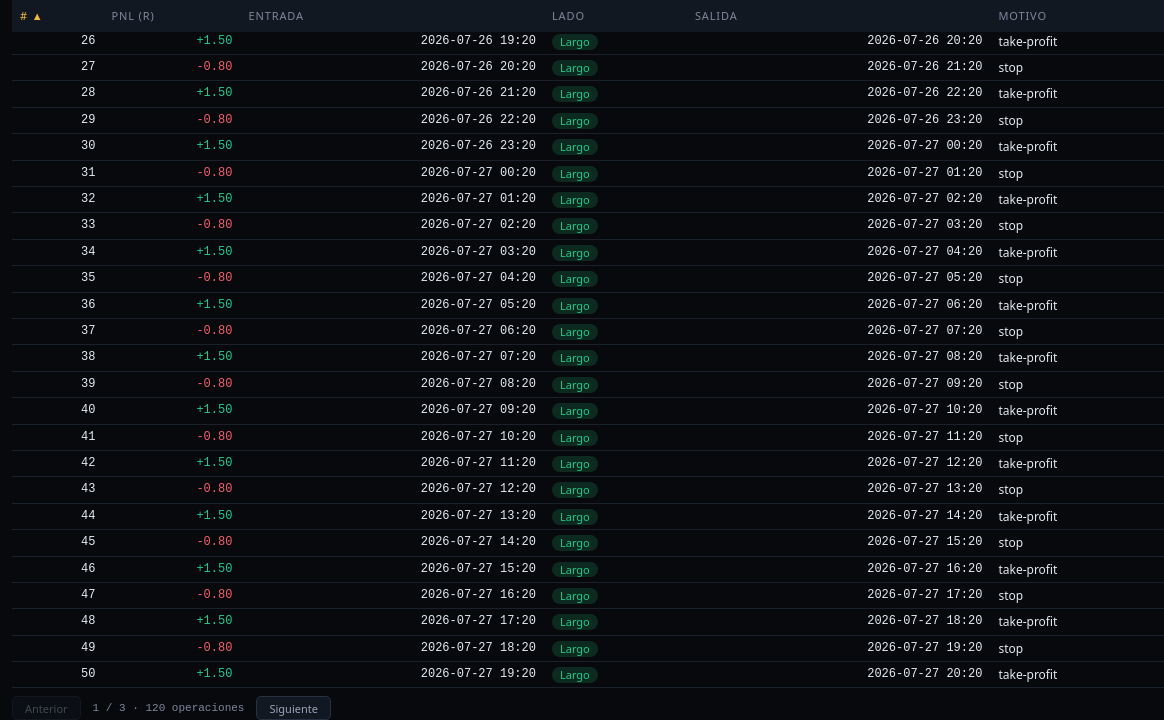
it: TradesTable › pasar de pagina muestra las siguientes operaciones
(page scrolled)
What coordinates should you click on to do the following:
click the button "Siguiente"
I would click on:
 (294, 708)
Its box is [256,696,331,719].
(page scrolled)
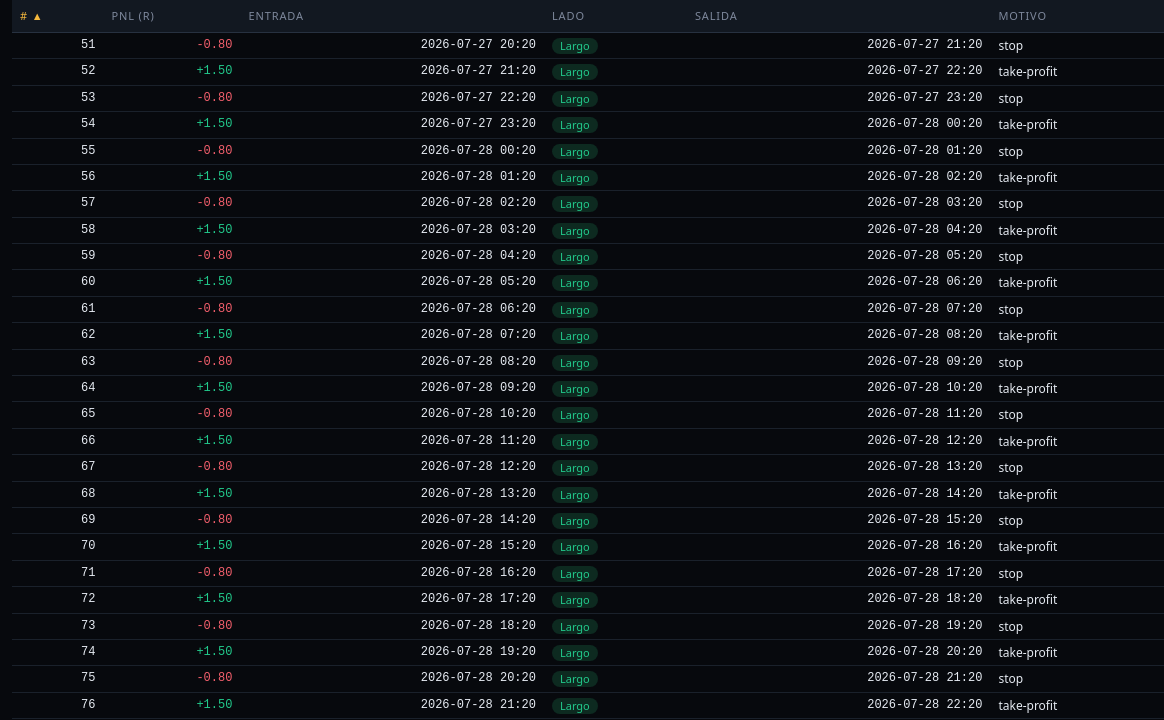
expect the text "51" is shown: met, box [12,32,103,59]
